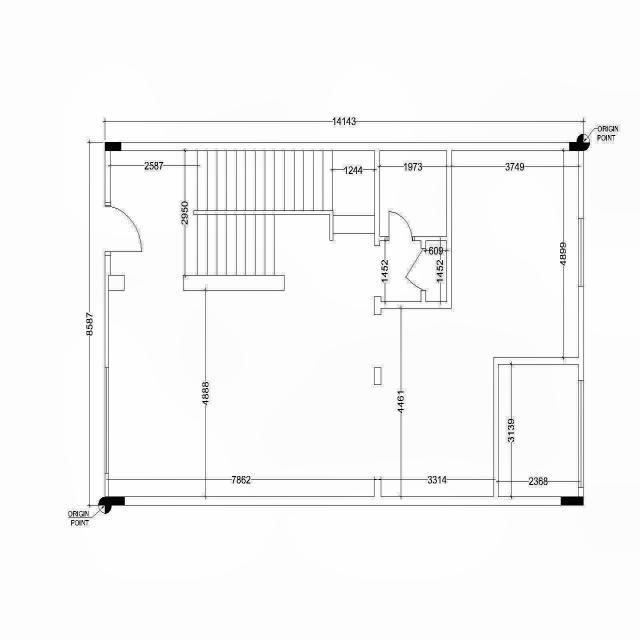Column: (560, 496, 584, 506), (105, 496, 125, 506), (105, 142, 121, 151), (569, 142, 584, 151)
Door: (104, 202, 142, 256), (405, 248, 426, 291), (386, 211, 414, 241)
Staircase: (110, 151, 374, 275)
Window: (578, 380, 584, 488), (105, 368, 109, 473), (578, 218, 584, 286)
